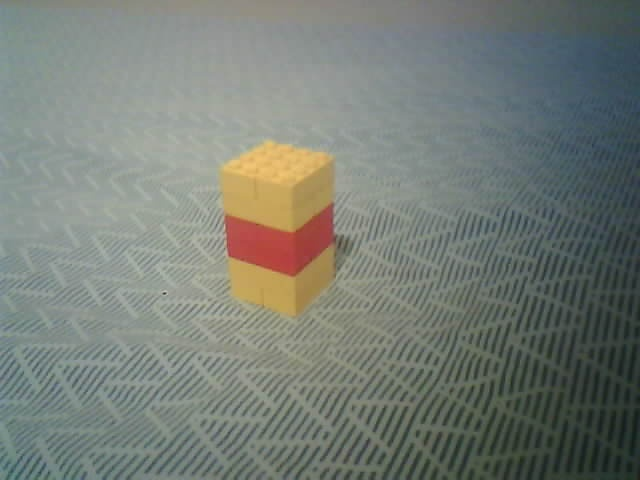lego: (218, 138, 337, 318)
